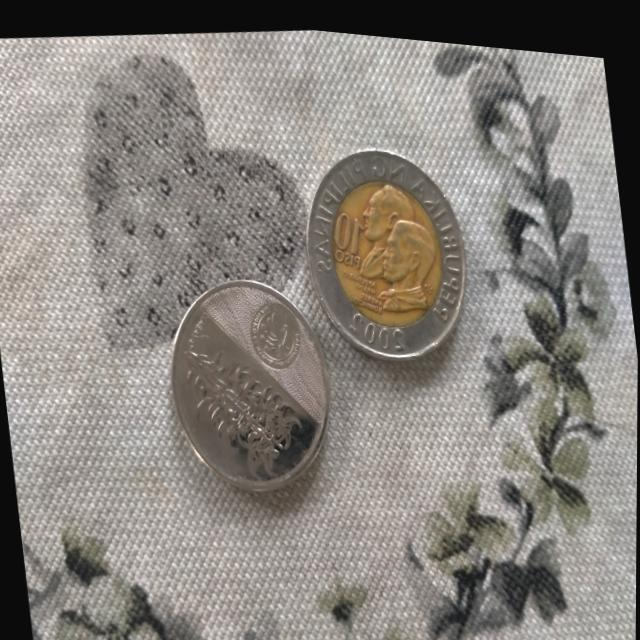10_Old_Front: (318, 183, 375, 272)
5_New_Back: (176, 322, 313, 486)
